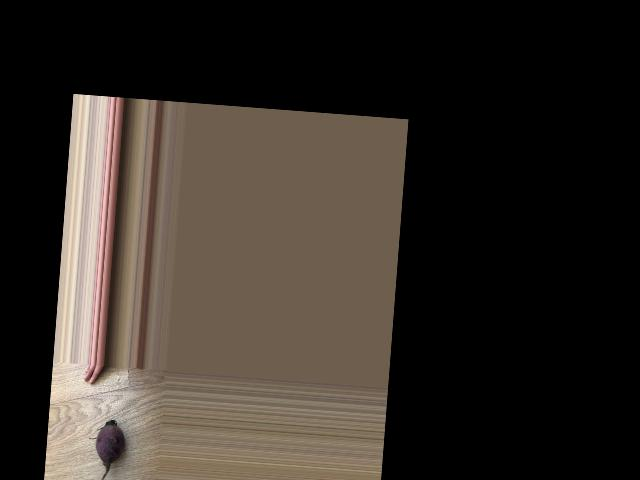beet: (84, 418, 125, 480)
